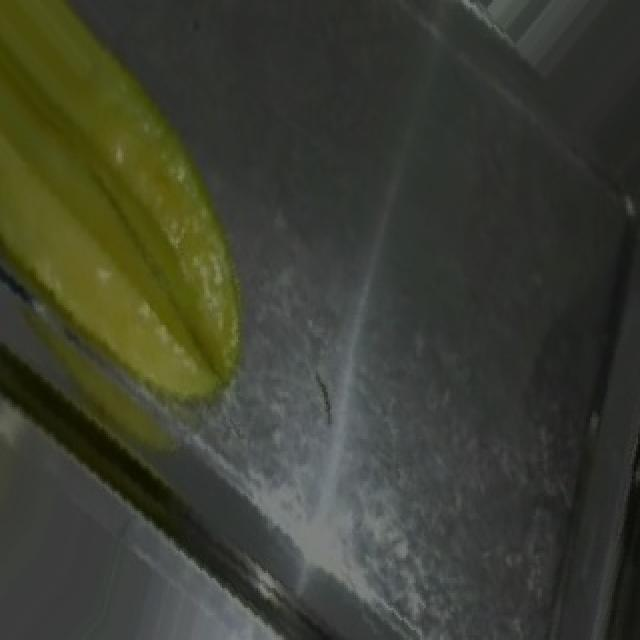fruit: (0, 0, 256, 325)
